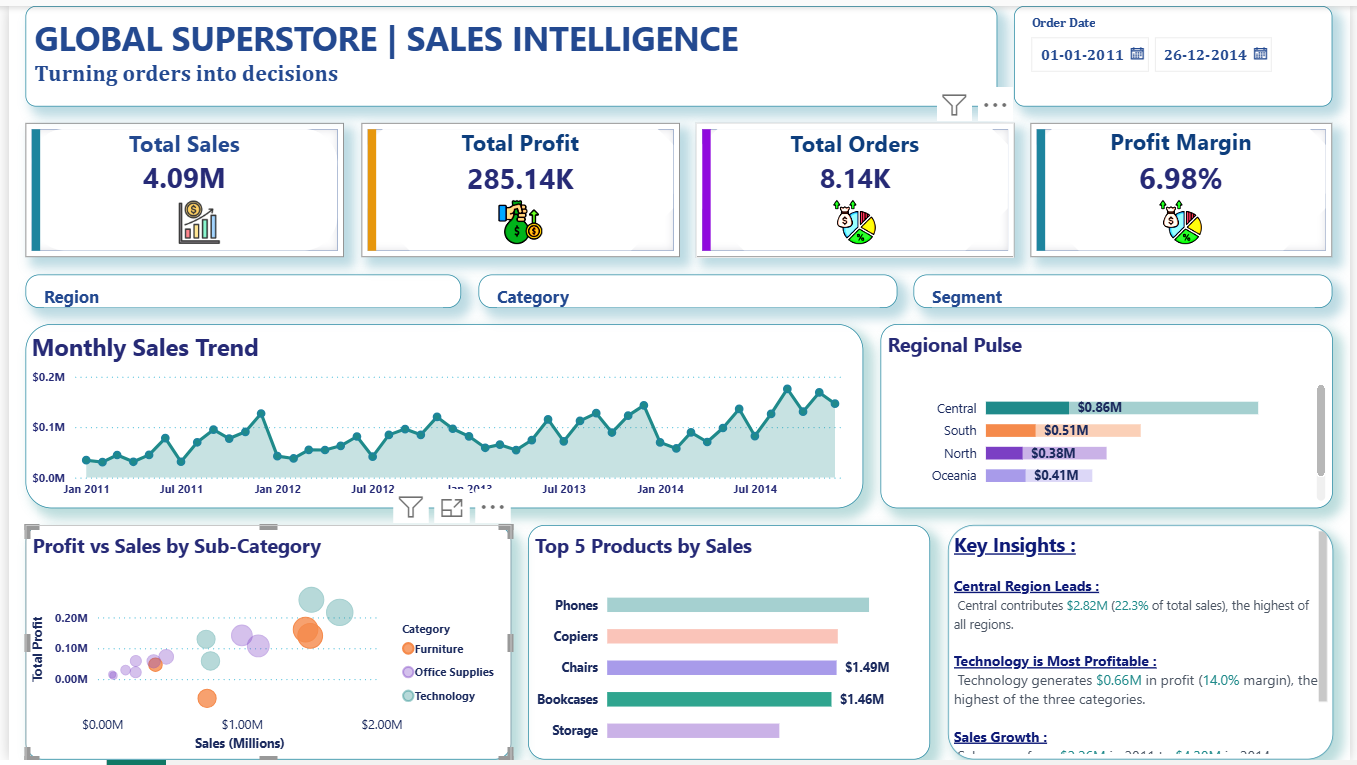

The dashboard page shown, as its layout file describes it:
{"tool":"powerbi","page":{"name":"Page 1","canvas":[1280,720],"ordinal":0},"visuals":[{"type":"cardVisual","fields":{"Data":["Orders.Total Sales"]},"box":[16,112,304,128],"z":0},{"type":"areaChart","title":"Monthly Sales Trend","fields":{"Y":["Orders.Total Sales"],"Category":["Orders.Month Start"]},"box":[16,304,800,176],"z":1000},{"type":"clusteredBarChart","title":"Regional Pulse","fields":{"Category":["Orders.Region"],"Y":["Orders.Total Sales"]},"box":[832,304,432,176],"z":2000},{"type":"clusteredBarChart","title":"Top 5 Products by Sales","fields":{"Y":["Orders.Total Sales"],"Category":["Orders.Sub-Category"]},"box":[496,496,384,224],"z":3000},{"type":"scatterChart","title":"Profit vs Sales by Sub-Category","fields":{"Category":["Orders.Sub-Category"],"Series":["Orders.Category"],"X":["Orders.Total Sales"],"Y":["Orders.Total Profit"],"Size":["Orders.Total Sales"]},"box":[16,496,464,224],"z":4000},{"type":"textbox","box":[16,0,928,96],"z":5000},{"type":"slicer","fields":{"Values":["Orders.Region"]},"box":[16,256,416,32],"z":6000},{"type":"slicer","fields":{"Values":["Orders.Order Date"]},"box":[960,0,304,96],"z":7000},{"type":"textbox","box":[896,496,368,224],"z":8000},{"type":"cardVisual","fields":{"Data":["Orders.Total Profit"]},"box":[336,112,304,128],"z":9000},{"type":"cardVisual","fields":{"Data":["Orders.Total Orders"]},"box":[656,112,304,128],"z":10000},{"type":"cardVisual","fields":{"Data":["Orders.Profit Margin"]},"box":[976,112,288,128],"z":11000},{"type":"slicer","fields":{"Values":["Orders.Category"]},"box":[448,256,400,32],"z":12000},{"type":"slicer","fields":{"Values":["Orders.Segment"]},"box":[864,256,400,32],"z":13000}]}

Visuals, with their boxes in screenshot pixels (x1, y1, x2, y2), scaled from the page's 1280x720 canvas onto the 1357x765 screenshot:
cardVisual - Orders.Total Sales: bbox(17, 119, 339, 255)
"Monthly Sales Trend" areaChart: bbox(17, 323, 865, 510)
"Regional Pulse" clusteredBarChart: bbox(882, 323, 1340, 510)
"Top 5 Products by Sales" clusteredBarChart: bbox(526, 527, 933, 764)
"Profit vs Sales by Sub-Category" scatterChart: bbox(17, 527, 509, 764)
textbox: bbox(17, 0, 1001, 102)
slicer - Orders.Region: bbox(17, 272, 458, 306)
slicer - Orders.Order Date: bbox(1018, 0, 1340, 102)
textbox: bbox(950, 527, 1340, 764)
cardVisual - Orders.Total Profit: bbox(356, 119, 678, 255)
cardVisual - Orders.Total Orders: bbox(695, 119, 1018, 255)
cardVisual - Orders.Profit Margin: bbox(1035, 119, 1340, 255)
slicer - Orders.Category: bbox(475, 272, 899, 306)
slicer - Orders.Segment: bbox(916, 272, 1340, 306)
